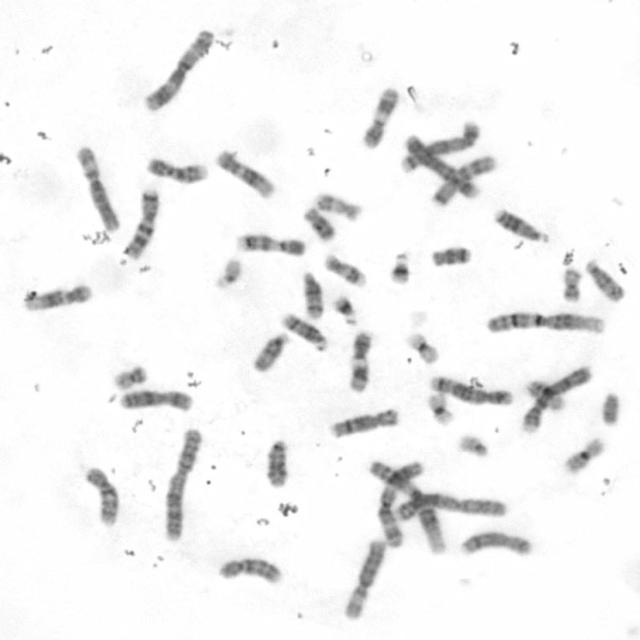A1: (367, 455, 448, 556), (482, 308, 608, 337)
A2: (160, 425, 203, 544), (387, 490, 508, 523)
A3: (140, 24, 217, 114), (376, 460, 426, 550)
B4: (399, 130, 482, 200), (517, 360, 593, 434)
B5: (396, 117, 482, 175), (426, 372, 515, 406)
C10: (80, 462, 121, 529), (216, 554, 284, 586)
C11: (358, 84, 400, 152), (344, 327, 374, 395)
C12: (212, 145, 278, 201), (18, 280, 95, 312)
C6: (71, 142, 122, 233), (340, 535, 388, 622)
C7: (428, 152, 499, 207), (120, 184, 160, 260)
C8: (326, 404, 401, 441), (456, 526, 534, 559)
C9: (232, 229, 308, 258), (143, 153, 210, 185)
D13: (490, 205, 550, 244), (262, 436, 290, 488)
D14: (278, 309, 329, 352), (297, 267, 326, 320)
D15: (583, 256, 627, 304), (248, 329, 290, 373)
E16: (560, 434, 607, 475), (521, 375, 567, 413)
E17: (310, 188, 364, 223), (321, 250, 368, 289)
E18: (299, 203, 337, 243), (426, 242, 473, 269)
F19: (403, 328, 441, 366), (423, 388, 456, 428)
F20: (110, 361, 149, 391), (560, 264, 584, 303)
G21: (330, 291, 360, 326), (386, 248, 413, 286)
G22: (211, 254, 243, 290), (454, 432, 491, 459)
X: (117, 385, 194, 413)
Y: (598, 388, 622, 426)
